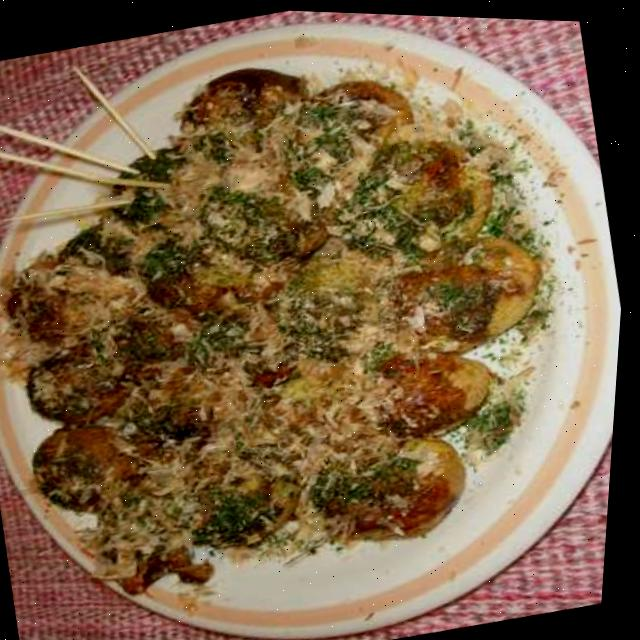炸货点心: (0, 11, 611, 607)
